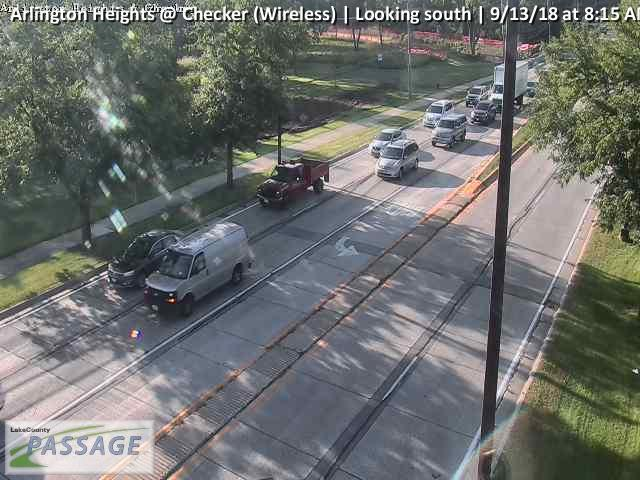SUV: (143, 222, 251, 313), (374, 139, 421, 180), (430, 114, 467, 149), (422, 99, 455, 127), (466, 86, 489, 105)
Sedan: (107, 228, 183, 290), (370, 128, 407, 158), (470, 101, 496, 122), (525, 81, 539, 96)
Truck: (255, 154, 330, 208), (491, 61, 529, 115)
